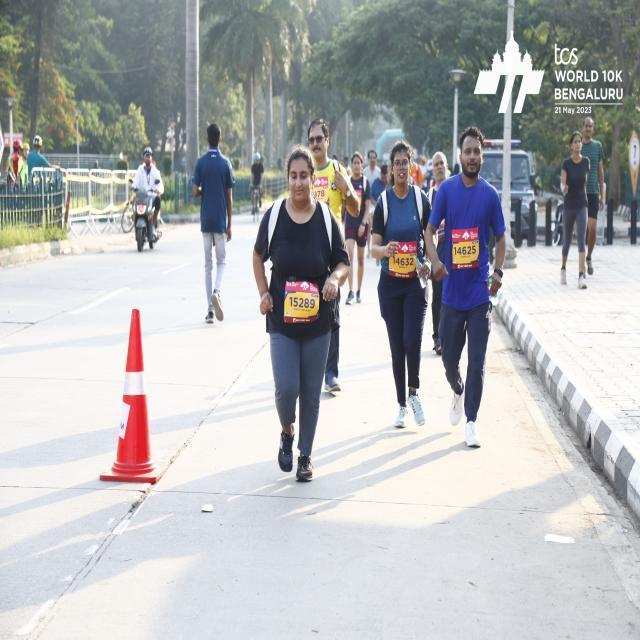dorsal: (448, 225, 482, 274), (284, 276, 320, 320), (391, 239, 420, 278)
